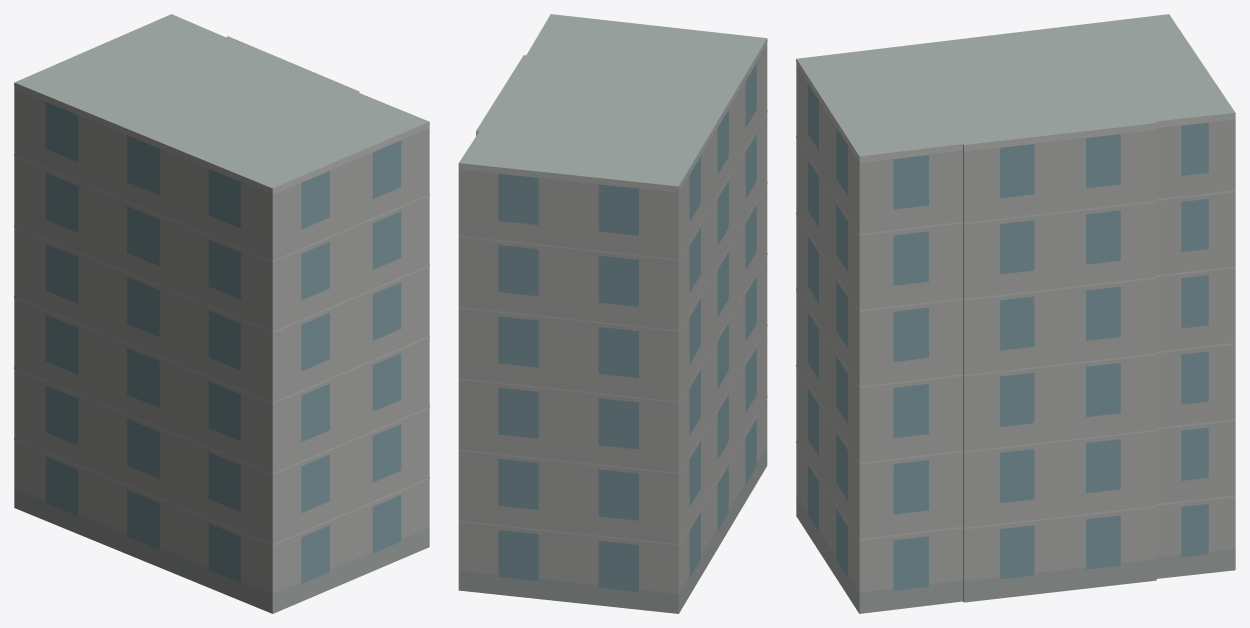
The model's file is survey-upis-32803994.glb.
The picture shows the model from 3 angles, left to right: view 1: azimuth 30°, elevation 25°; view 2: azimuth 150°, elevation 25°; view 3: azimuth 270°, elevation 25°; orthographic projection. The views are drawn at different scales.
Parts seen in each view (by area): view 1: survey-upis-32803994.tmp; view 2: survey-upis-32803994.tmp; view 3: survey-upis-32803994.tmp.
Part boxes in pixels (x1,y1,x2,y2): survey-upis-32803994.tmp: (14, 14, 429, 613); survey-upis-32803994.tmp: (458, 14, 767, 613); survey-upis-32803994.tmp: (796, 14, 1235, 613).
Size of the model in its own units: 11.21 by 16.75 by 14.6.
